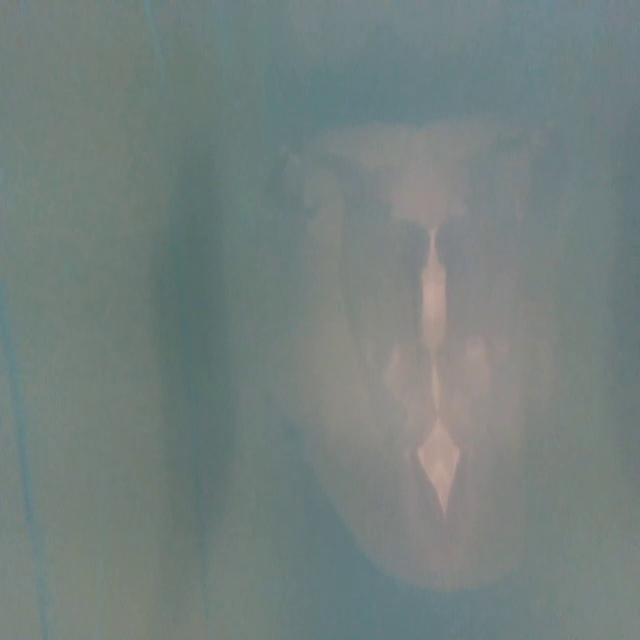plastic bags: (262, 130, 539, 604)
